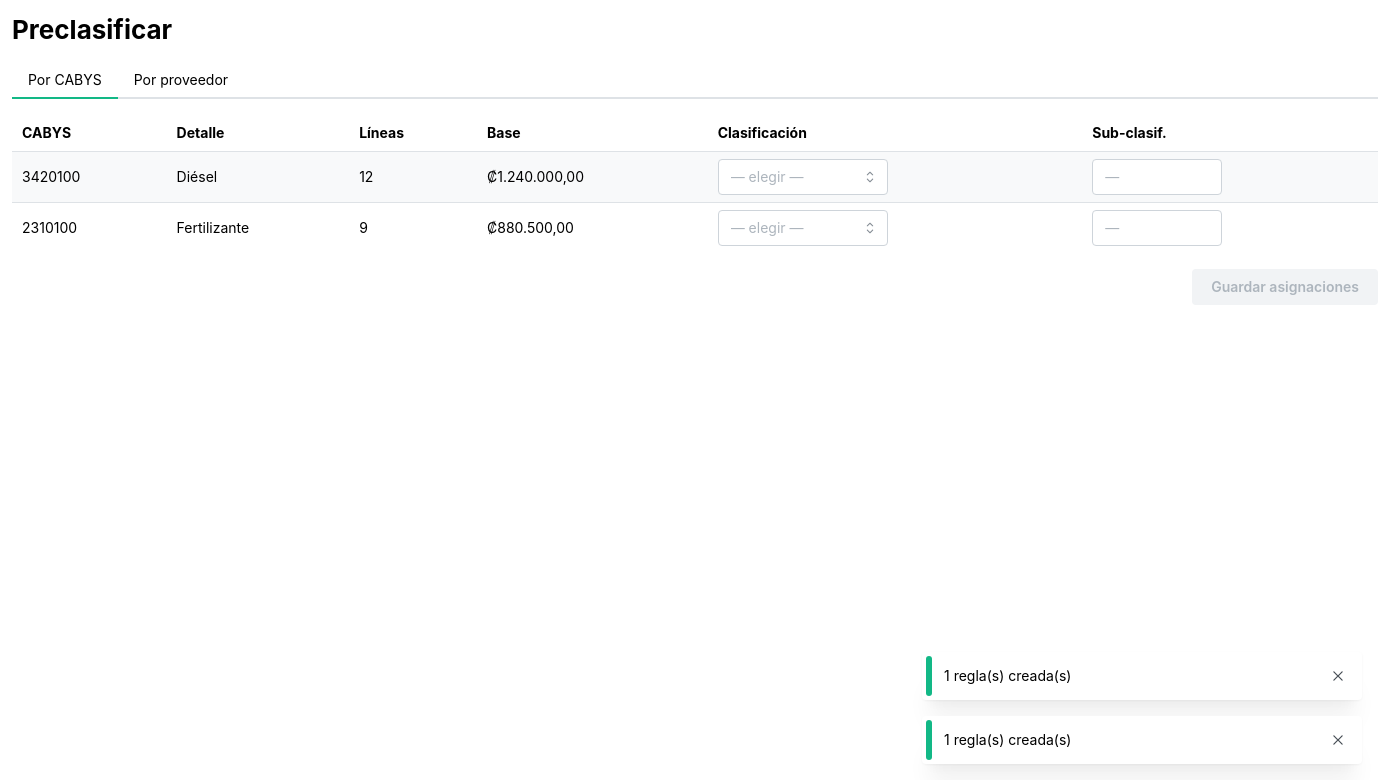
conserva la fila que falló al guardar (fallo parcial)
Note: asignar ambas
Click the field named "Clasificación 3420100" at coordinates (803, 177), box [718, 159, 888, 195]
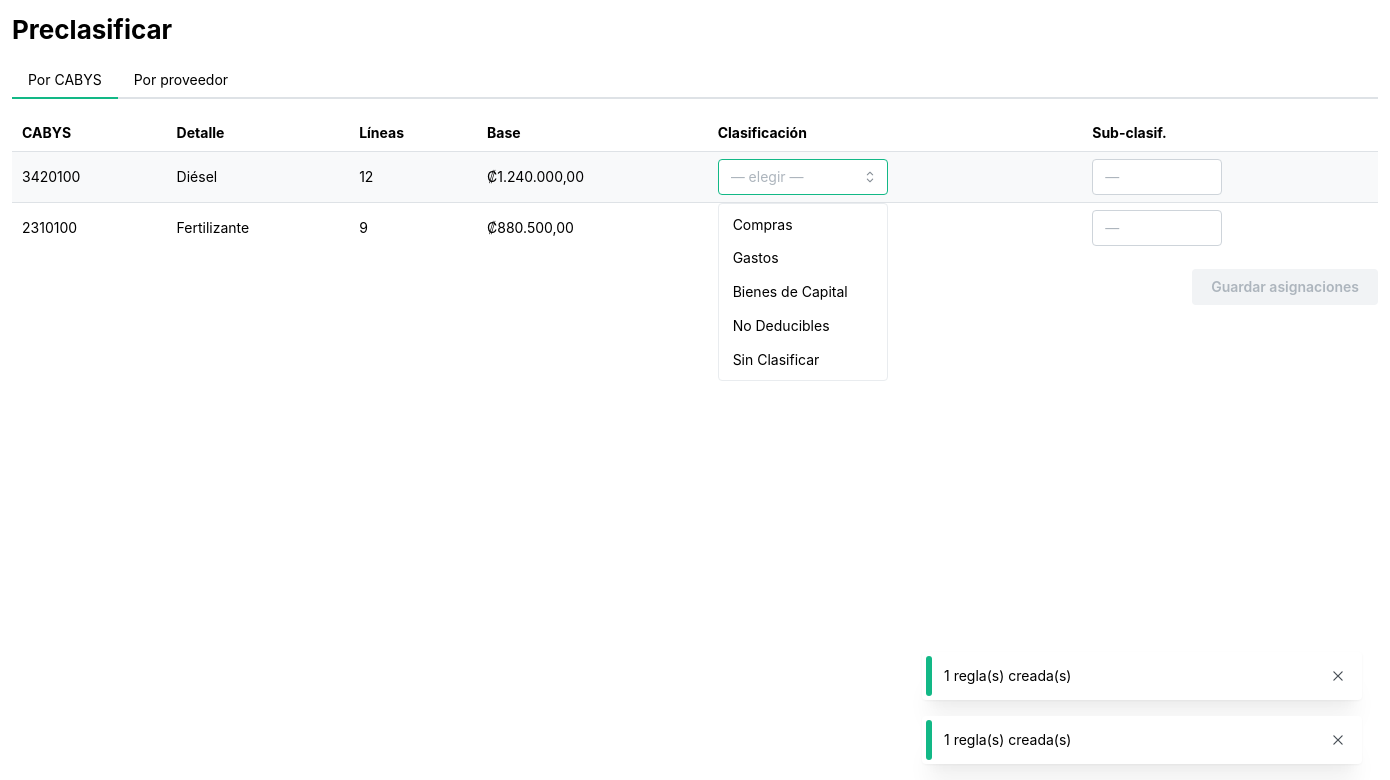
Click the option "Compras" at coordinates (763, 224), box [733, 216, 793, 233]
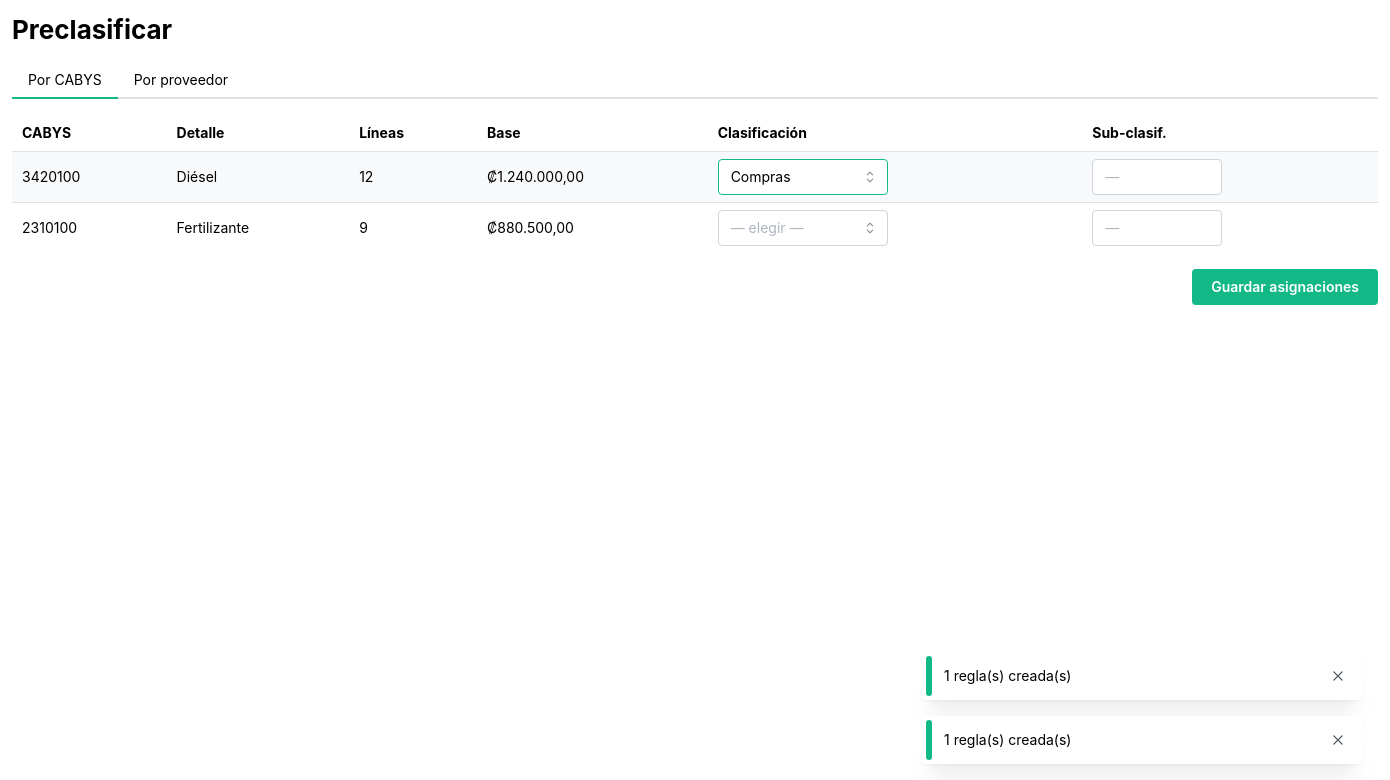
Click the field named "Clasificación 2310100" at coordinates (803, 228), box [718, 210, 888, 246]
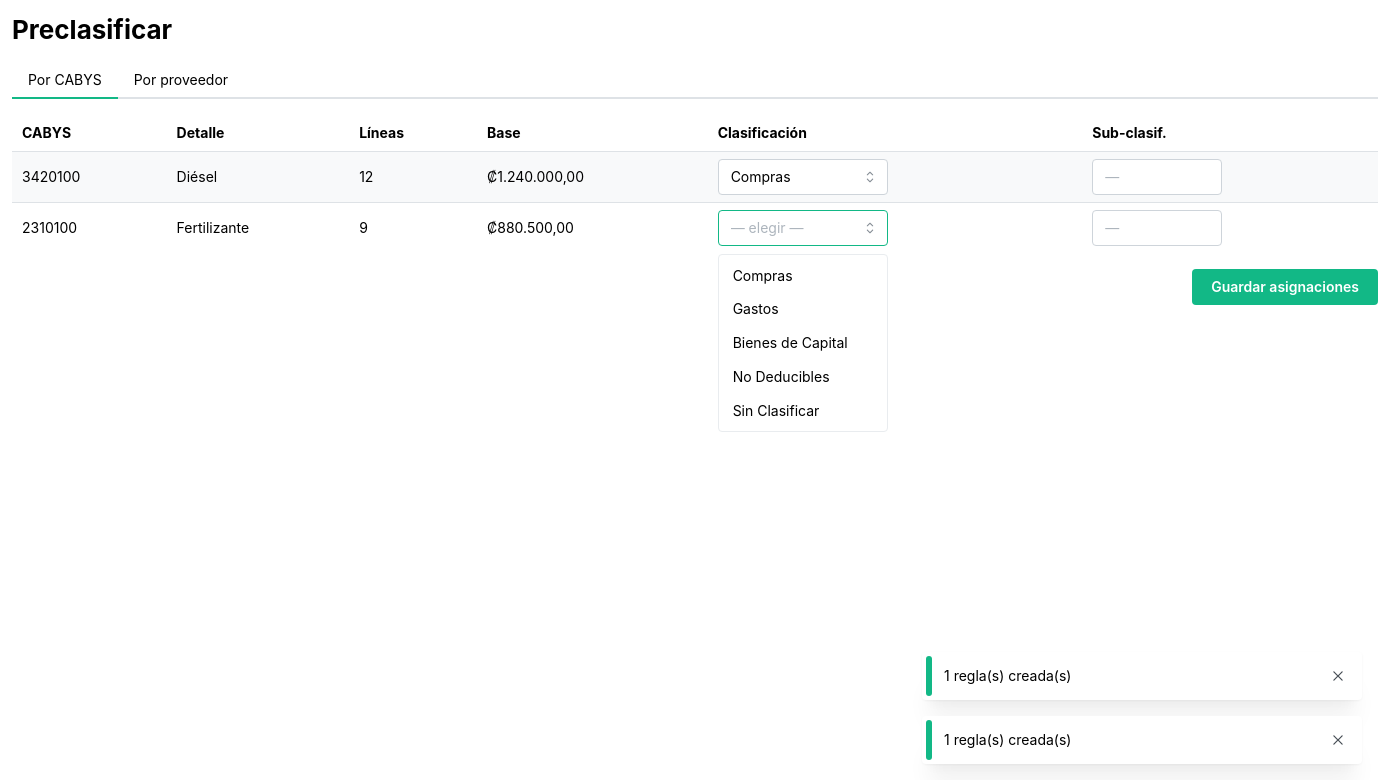
Click the option "Gastos" at coordinates (756, 309), box [733, 300, 778, 318]
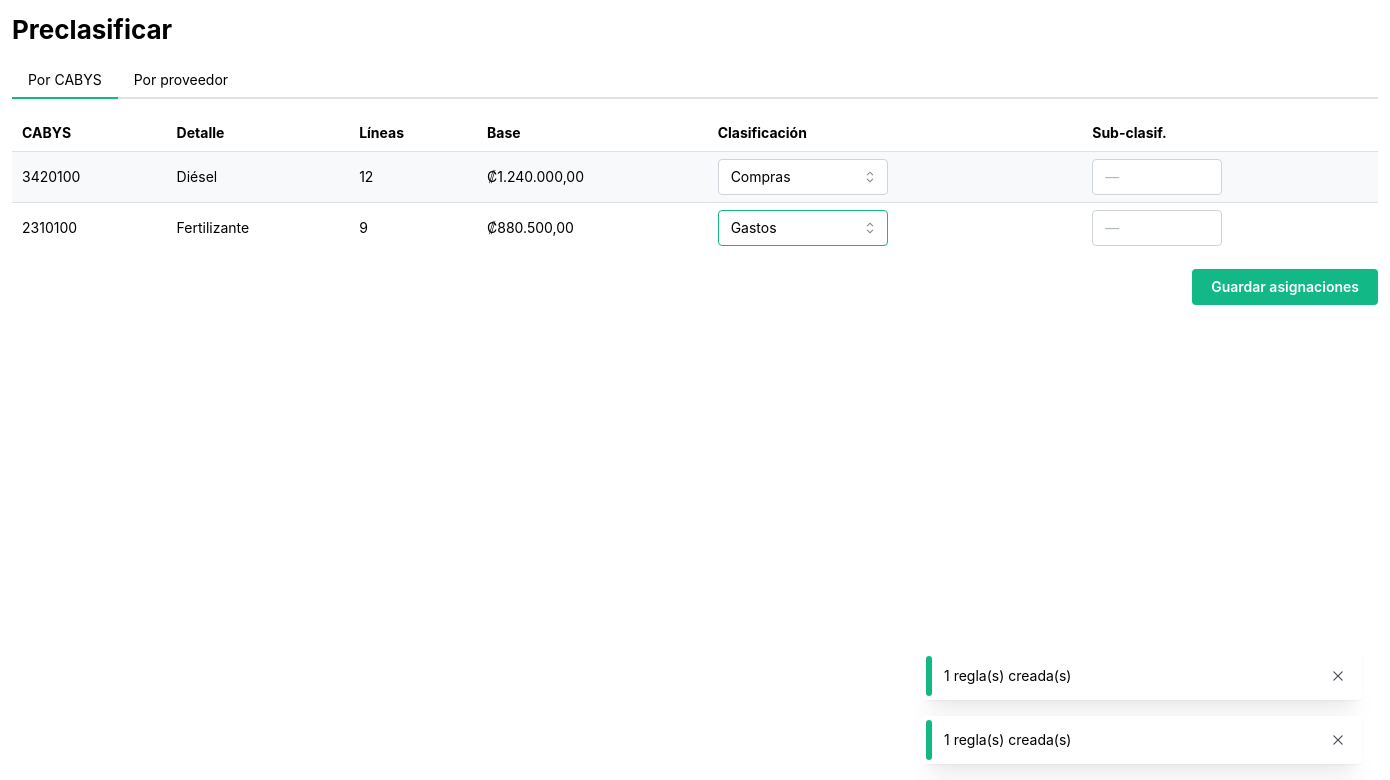
Click the button "Guardar asignaciones" at coordinates (1285, 287), box [1192, 269, 1378, 305]
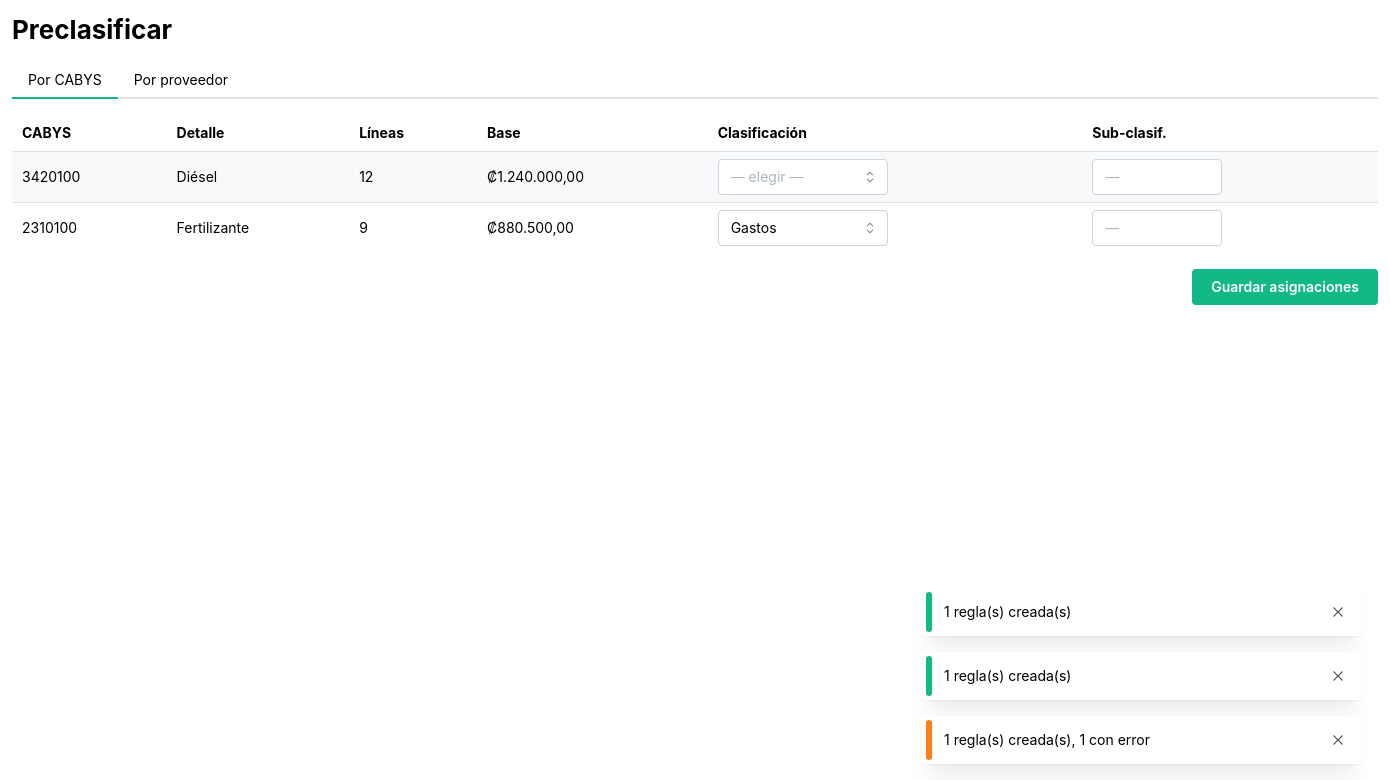
Now the field named "Clasificación 2310100" holds "Gastos", box [718, 210, 888, 246]
Now the field named "Clasificación 3420100" is empty, box [718, 159, 888, 195]
